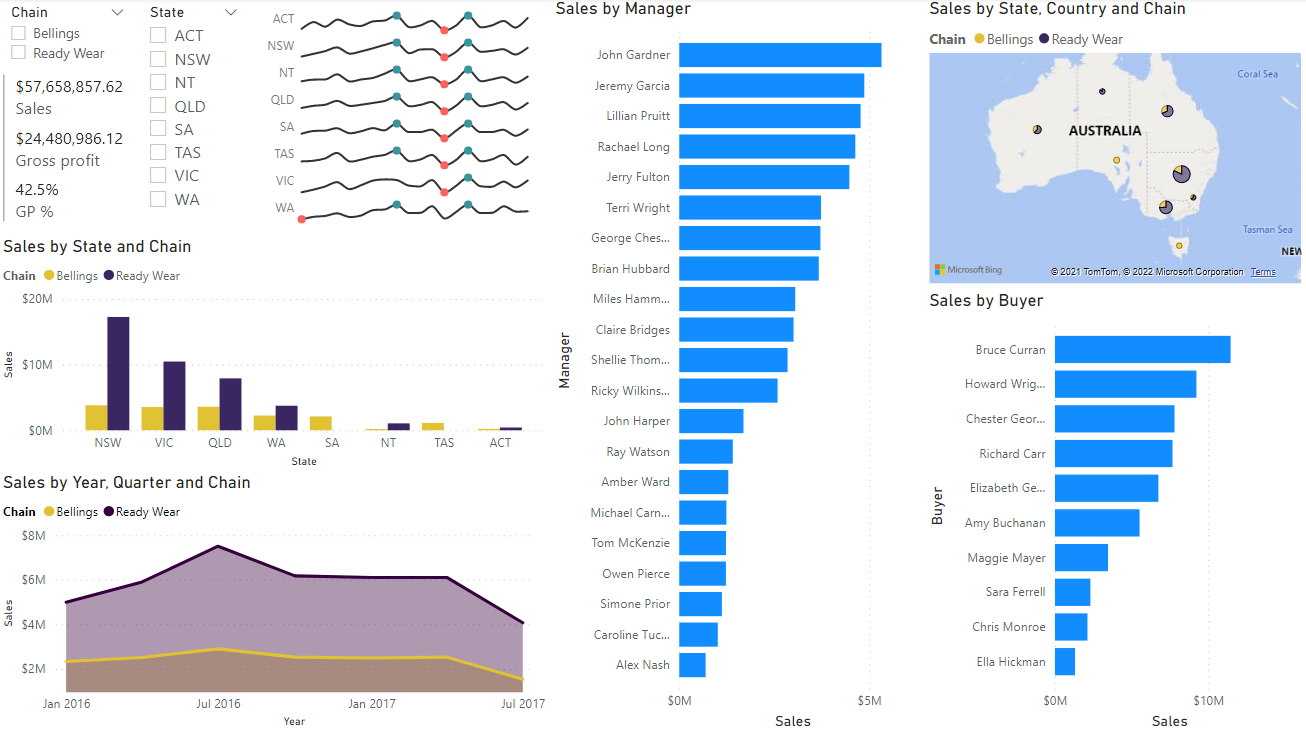

The page's visual inventory and layout, read from the dashboard file:
{"tool":"powerbi","page":{"name":"Regions and chains","canvas":[1280,720],"ordinal":1},"visuals":[{"type":"clusteredBarChart","fields":{"Y":["Sum(Sales.Sales)"],"Category":["Buyers.Buyer"]},"box":[905.7,284.6,373.9,435.4],"z":0},{"type":"map","fields":{"Series":["Sales.Chain"],"Category":["Regions.State, Country"],"Size":["Sum(Sales.Sales)"]},"box":[905.7,0,373.9,284.6],"z":1000},{"type":"clusteredBarChart","fields":{"Category":["Managers.Manager"],"Y":["Sum(Sales.Sales)"]},"box":[540.3,0,365.4,720],"z":2000},{"type":"areaChart","fields":{"Y":["Sum(Sales.Sales)"],"Category":["Dates.Date.Variation.Date Hierarchy.Year","Dates.Date.Variation.Date Hierarchy.Quarter","Dates.Date.Variation.Date Hierarchy.Month","Dates.Date.Variation.Date Hierarchy.Day"],"Series":["Sales.Chain"]},"box":[0,463.3,540.3,255.5],"z":3000},{"type":"clusteredColumnChart","fields":{"Y":["Sum(Sales.Sales)"],"Category":["Regions.State"],"Series":["Sales.Chain"]},"box":[0,232.3,540.3,231],"z":4000},{"type":"slicer","fields":{"Values":["Sales.Chain"]},"box":[0,0,135.7,69.7],"z":5000},{"type":"multiRowCard","fields":{"Values":["Sum(Sales.Sales)","Sum(Sales.Gross profit)","Sales.GP %"]},"box":[0,69.7,135.7,162.6],"z":6000},{"type":"slicer","fields":{"Values":["Regions.State"]},"box":[135.7,0,111,232.3],"z":7000},{"type":"PBI_CV_25997FEB_F466_44FA_B562_AC4063283C4C","fields":{"measure":["Sum(Sales.Sales)"],"axis":["Dates.Date"],"category":["Regions.State"]},"box":[246.9,0,293.4,232.3],"z":8000}]}

Visuals, with their boxes in screenshot pixels (x1, y1, x2, y2), scaled from the page's 1280x720 canvas onto the 1306x733 screenshot:
clusteredBarChart - Sum(Sales.Sales) x Buyers.Buyer: [x1=924, y1=290, x2=1305, y2=732]
map - Sales.Chain x Regions.State, Country: [x1=924, y1=0, x2=1305, y2=290]
clusteredBarChart - Managers.Manager x Sum(Sales.Sales): [x1=551, y1=0, x2=924, y2=732]
areaChart - Sum(Sales.Sales) x Dates.Date.Variation.Date Hierarchy.Year: [x1=0, y1=472, x2=551, y2=732]
clusteredColumnChart - Sum(Sales.Sales) x Regions.State: [x1=0, y1=236, x2=551, y2=472]
slicer - Sales.Chain: [x1=0, y1=0, x2=138, y2=71]
multiRowCard - Sum(Sales.Sales) x Sum(Sales.Gross profit): [x1=0, y1=71, x2=138, y2=236]
slicer - Regions.State: [x1=138, y1=0, x2=252, y2=236]
PBI_CV_25997FEB_F466_44FA_B562_AC4063283C4C - Sum(Sales.Sales) x Dates.Date: [x1=252, y1=0, x2=551, y2=236]
